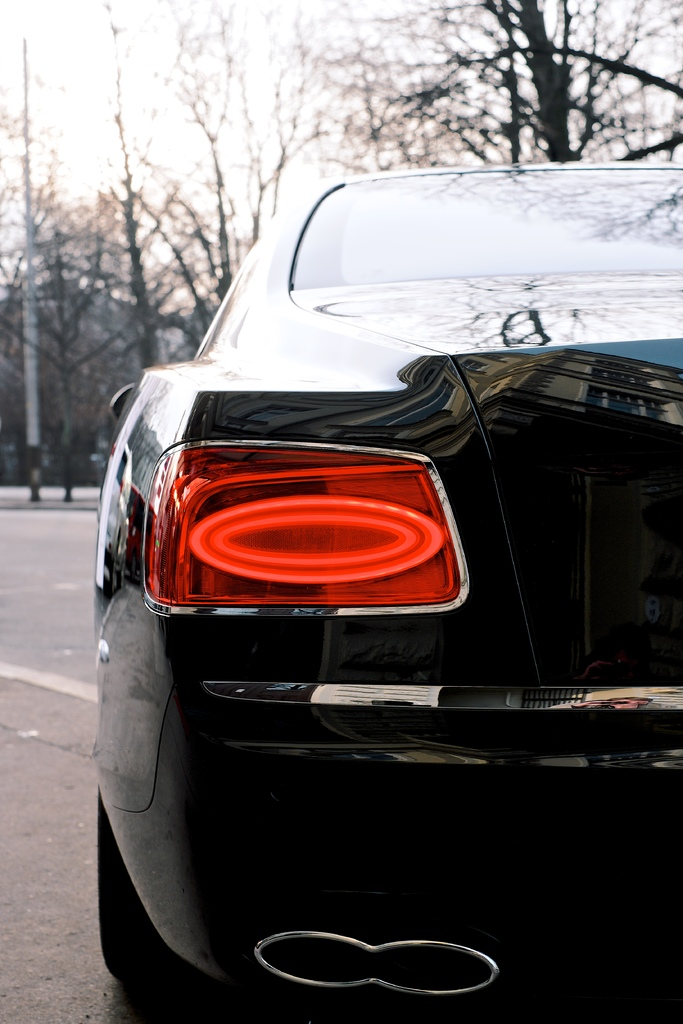Car: (83, 154, 630, 1009)
